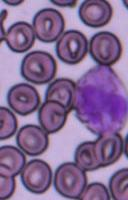N: (74, 64, 128, 136)
